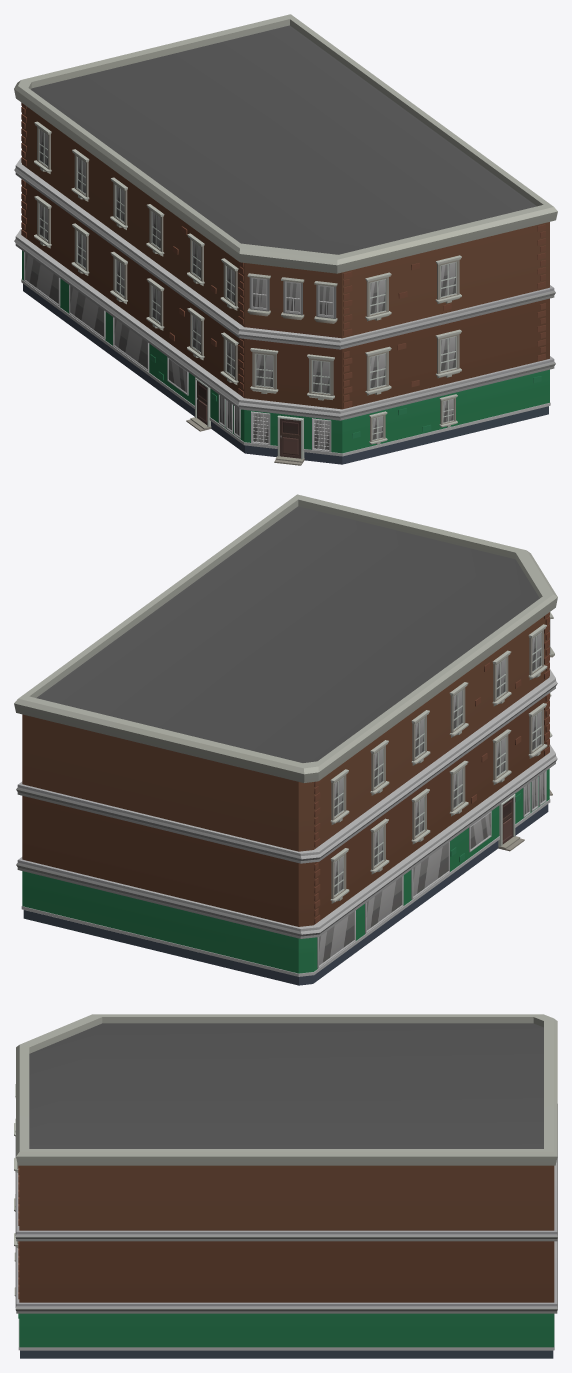
File: Building_25_10_H.fbx
The picture shows the model from 3 angles, top to bottom: view 1: azimuth 30°, elevation 25°; view 2: azimuth 150°, elevation 25°; view 3: azimuth 270°, elevation 25°; orthographic projection. The views are drawn at different scales.
Visible parts, largest first — view 1: Building_25_10_H; view 2: Building_25_10_H; view 3: Building_25_10_H.
Boxes of the visible parts, x1=… form: Building_25_10_H: x1=14, y1=14, x2=557, y2=465; Building_25_10_H: x1=14, y1=494, x2=557, y2=985; Building_25_10_H: x1=14, y1=1014, x2=557, y2=1358.
Size of the model in its own units: 1683 by 1159 by 2729.
